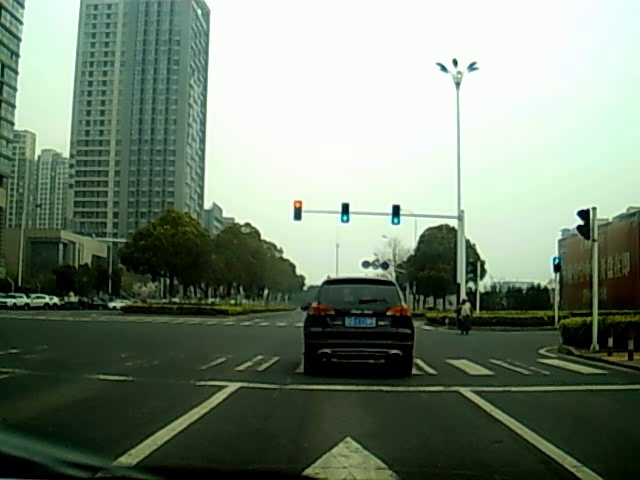Traffic_Light_go: (340, 205, 351, 225), (392, 206, 400, 226)
Traffic_Light_stop: (294, 200, 302, 218)
